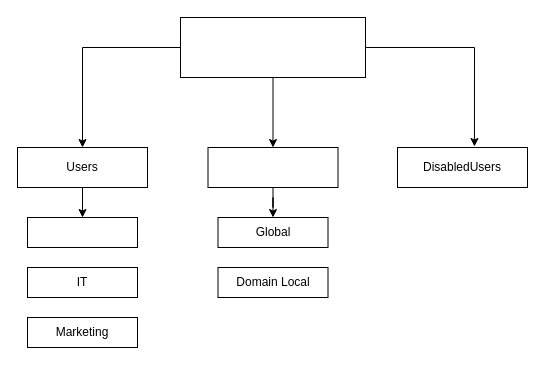
The diagram is 545 pixels wide and 365 high, and some of its shapes have lost their labels. Each missing label, with the box of its shape:
Corporate: (180, 16, 366, 78)
Finance: (26, 216, 138, 248)
Groups: (207, 146, 338, 188)
